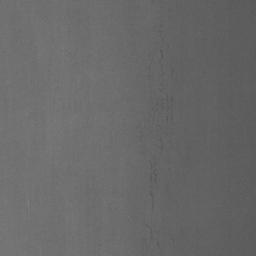Silk spot: (149, 160, 157, 184)
